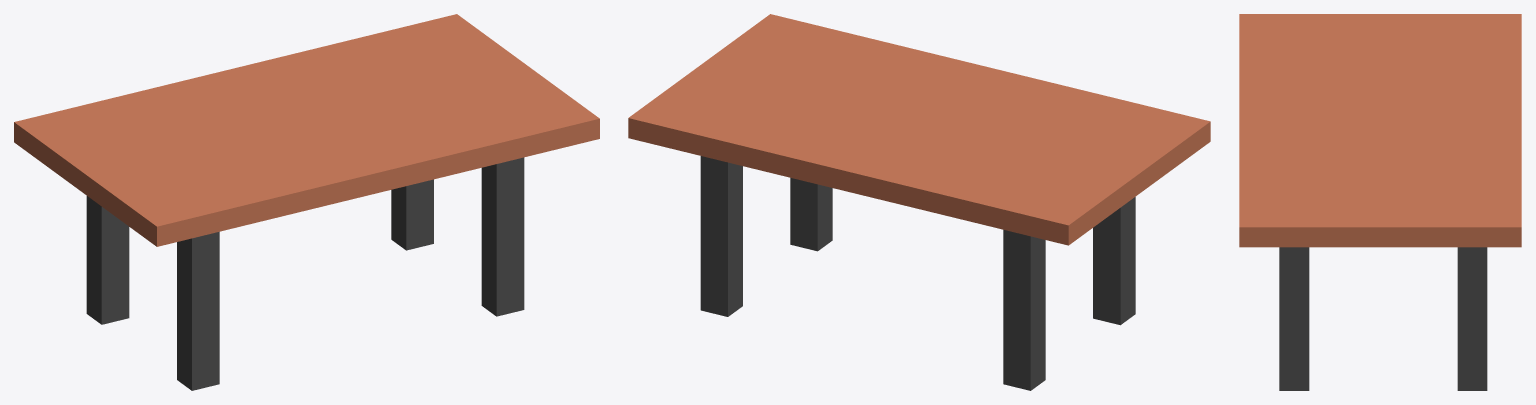
Rendered from Mesa.fbx.
3 renders of one model, left to right at view 1: azimuth 30°, elevation 25°; view 2: azimuth 150°, elevation 25°; view 3: azimuth 270°, elevation 25°, orthographic.
Visible parts, largest first — view 1: Cubo.003; view 2: Cubo.003; view 3: Cubo.003.
Part boxes in pixels (box(x1,y1,x2,y2)): Cubo.003: box(14, 14, 599, 390); Cubo.003: box(628, 14, 1210, 390); Cubo.003: box(1239, 14, 1521, 390).
Size of the model in its own units: 986 by 410 by 551.
